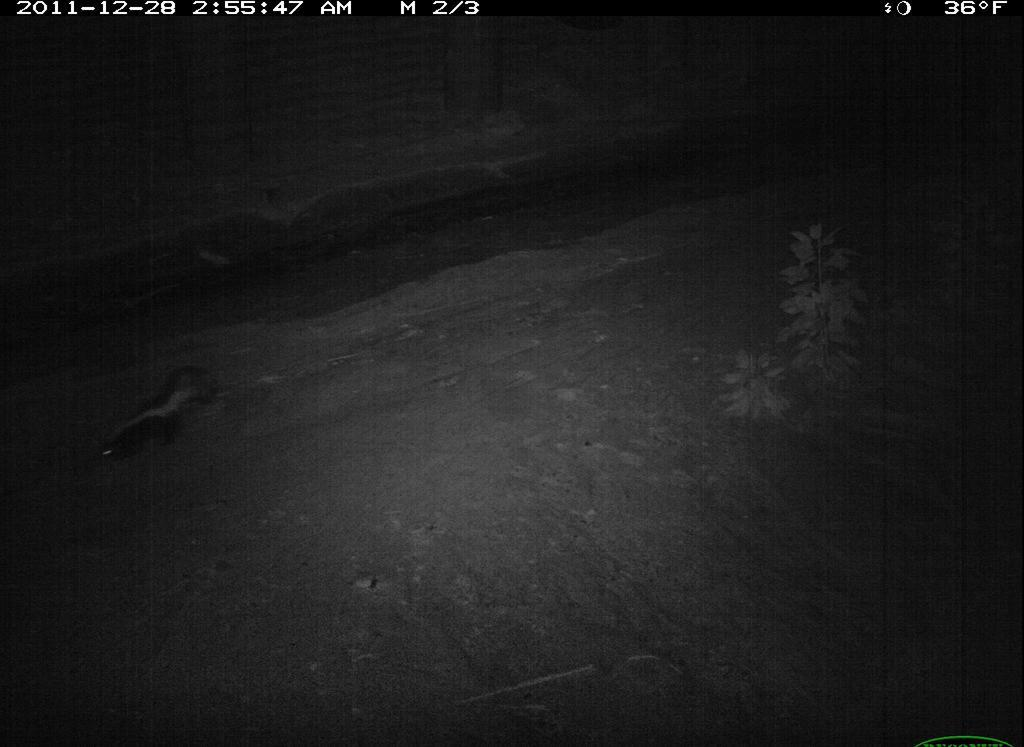skunk: (95, 355, 226, 478)
